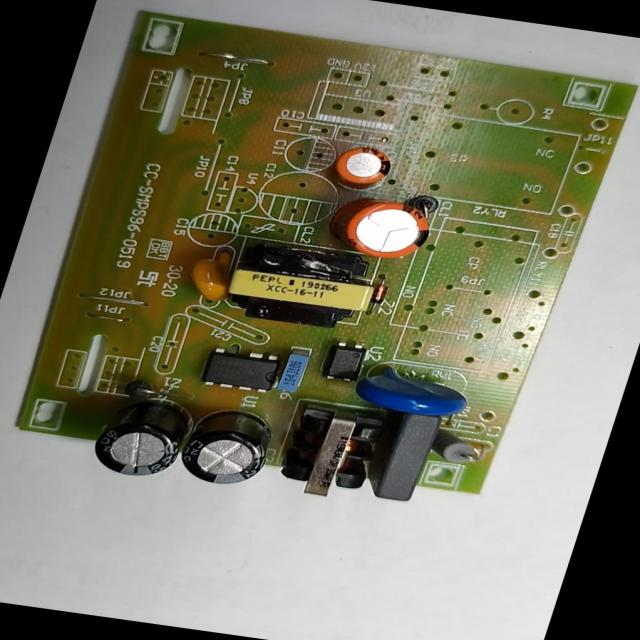Cap1: (335, 192, 439, 264)
Cap2: (329, 143, 396, 190)
Cap3: (170, 405, 282, 490)
Cap4: (86, 388, 198, 482)
MOSFET: (199, 344, 283, 396)
Mov: (348, 359, 478, 421)
Resistor: (426, 424, 483, 466)
Transformer: (219, 240, 384, 334), (274, 406, 392, 506)
